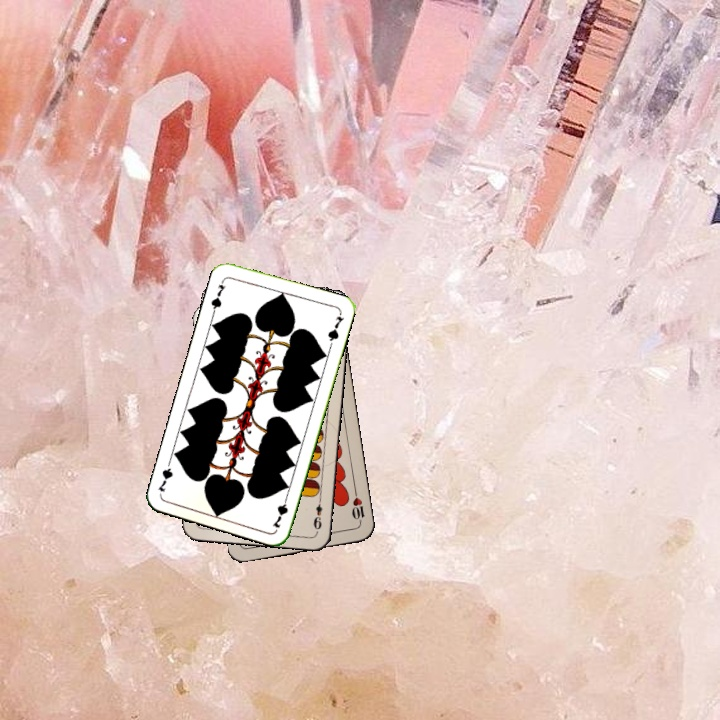E9: (310, 493, 325, 532)
G7: (268, 491, 291, 531), (207, 276, 228, 316)
H10: (348, 487, 367, 527)
